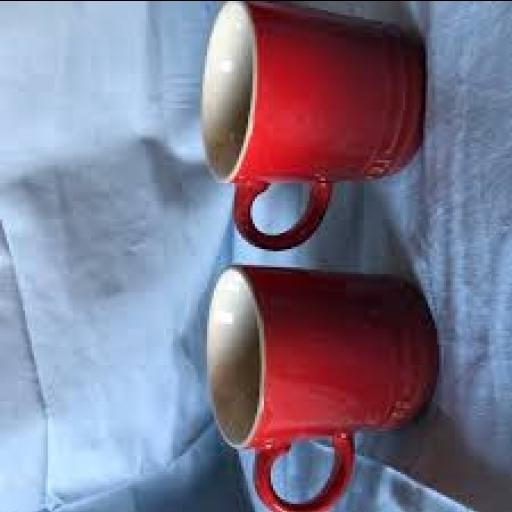red mug: (208, 268, 436, 511), (203, 1, 423, 251)
